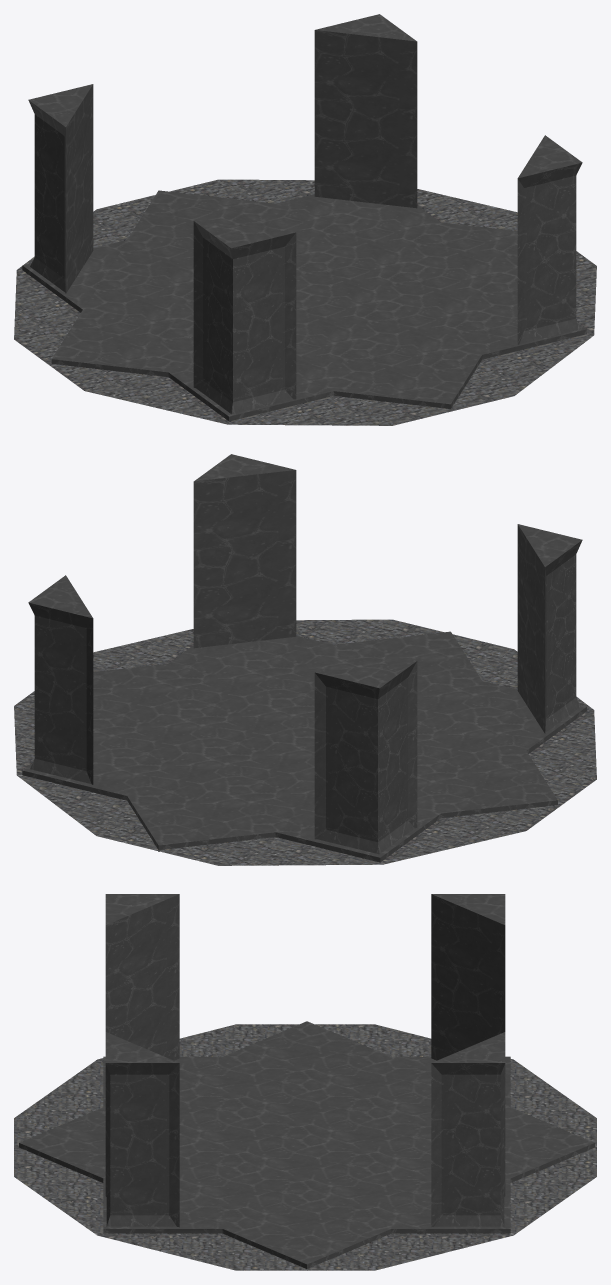
Rendered from mapparts4.fbx.
3 renders of one model, top to bottom at view 1: azimuth 30°, elevation 25°; view 2: azimuth 150°, elevation 25°; view 3: azimuth 270°, elevation 25°, orthographic.
Visible parts, largest first — view 1: Box002, Box001, Box005, Box003, Box004, Box006; view 2: Box002, Box001, Box004, Box006, Box005, Box003; view 3: Box002, Box001, Box004, Box005, Box003, Box006.
Boxes of the visible parts, x1,y1,x2,y2 form: Box002: (22, 190, 586, 421); Box001: (14, 179, 596, 425); Box005: (314, 14, 417, 208); Box003: (193, 221, 296, 414); Box004: (517, 135, 582, 344); Box006: (28, 84, 93, 293); Box002: (22, 631, 586, 862); Box001: (14, 619, 596, 865); Box004: (193, 454, 296, 648); Box006: (314, 661, 417, 854); Box005: (28, 575, 93, 784); Box003: (517, 524, 582, 733); Box002: (19, 1021, 594, 1268); Box001: (14, 1024, 596, 1270); Box004: (105, 1032, 179, 1227); Box005: (431, 1032, 505, 1227); Box003: (105, 894, 179, 1060); Box006: (431, 894, 505, 1060).
Bounding box in the file's own units: 3150 × 1270 × 3150.
2 materials, 2 textured.
